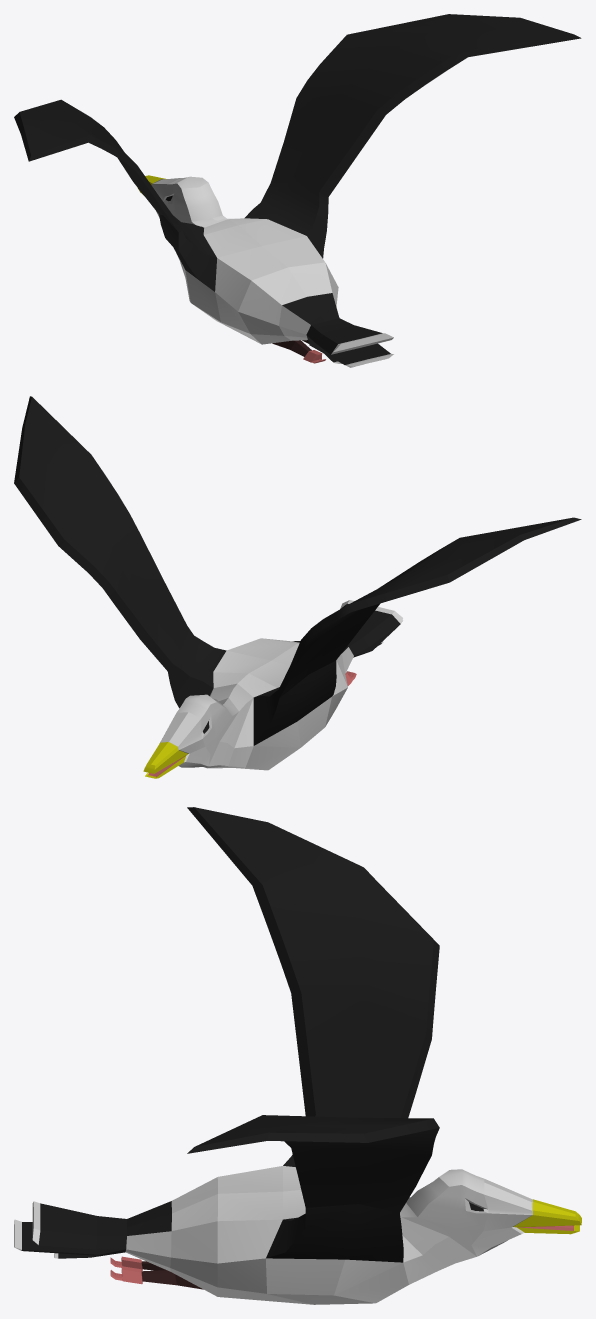
File: Gaviota.fbx
3 renders of one model, top to bottom at view 1: azimuth 30°, elevation 25°; view 2: azimuth 150°, elevation 25°; view 3: azimuth 270°, elevation 25°, orthographic. The views are drawn at different scales.
Visible parts, largest first — view 1: gaviota; view 2: gaviota; view 3: gaviota.
Boxes of the visible parts, box(x1,y1,x2,y2) form: gaviota: box(14, 14, 581, 367); gaviota: box(14, 396, 581, 778); gaviota: box(14, 807, 581, 1304).
Size of the model in its own units: 0.9379 by 0.4231 by 0.6777.
